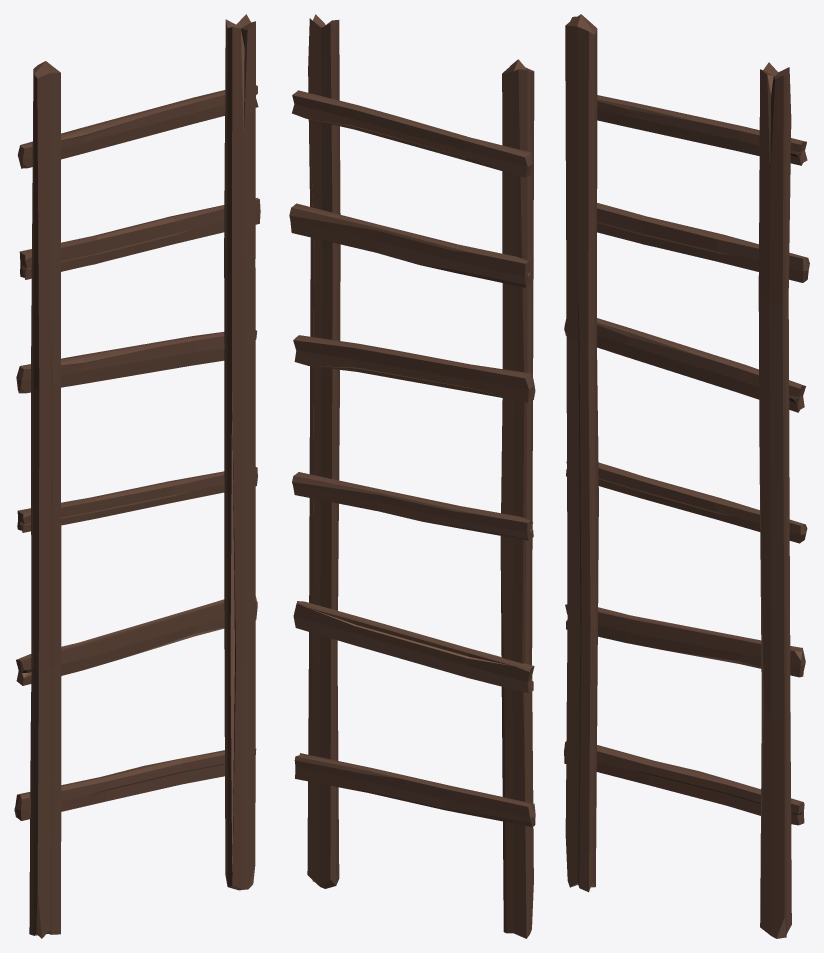
Rendered from Ladder_01.glb.
3 views of the same model, side by side, from view 1: azimuth 30°, elevation 25°; view 2: azimuth 150°, elevation 25°; view 3: azimuth 330°, elevation 25° (orthographic).
Visible parts, largest first — view 1: Ladder_01; view 2: Ladder_01; view 3: Ladder_01.
Boxes of the visible parts, x1,y1,x2,y2 form: Ladder_01: [14, 14, 260, 938]; Ladder_01: [289, 14, 535, 938]; Ladder_01: [564, 14, 809, 938].
Size of what is drawn, in the model's own units: 0.889 by 3.04 by 0.0908.
Materials: 1 (1 with a texture image).
